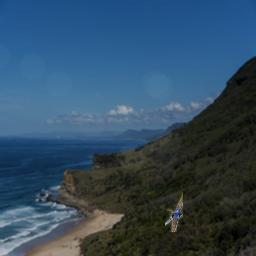Swallow: (165, 192, 183, 232)
